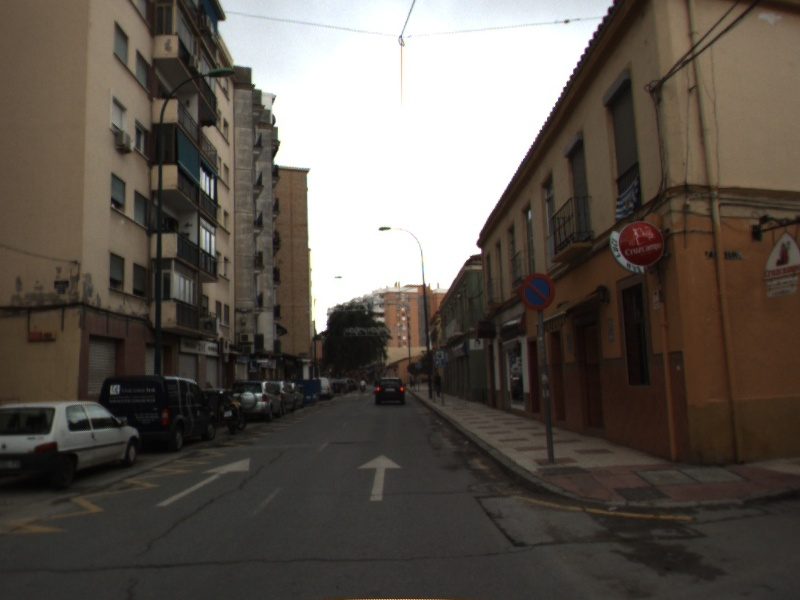STRAIGHT: (151, 455, 252, 510), (354, 451, 405, 504)
